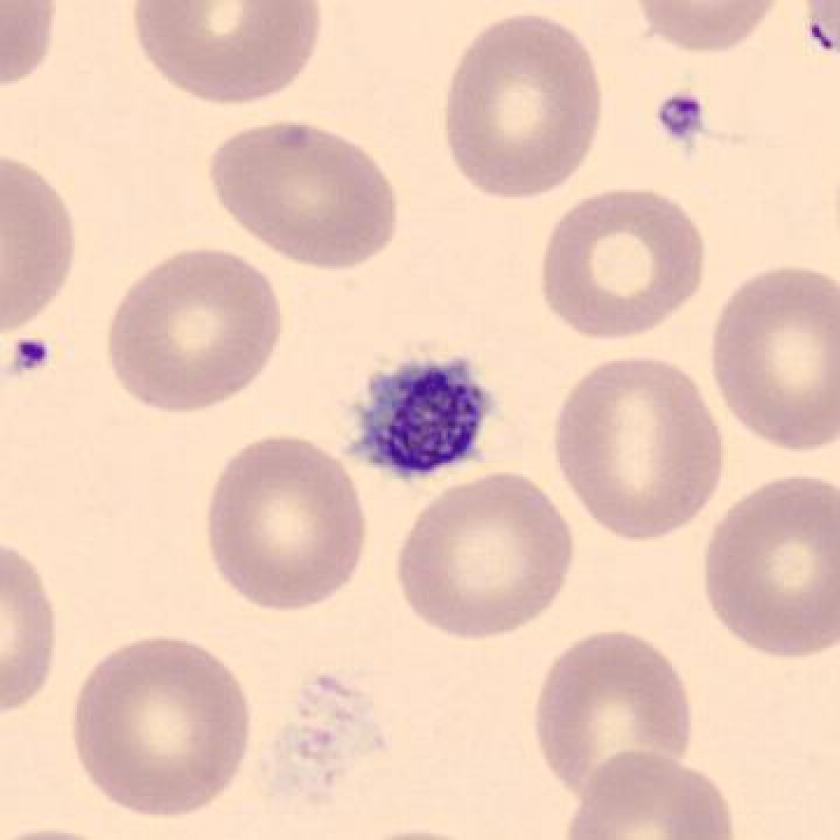platelets: (344, 344, 500, 485), (650, 87, 717, 154)
